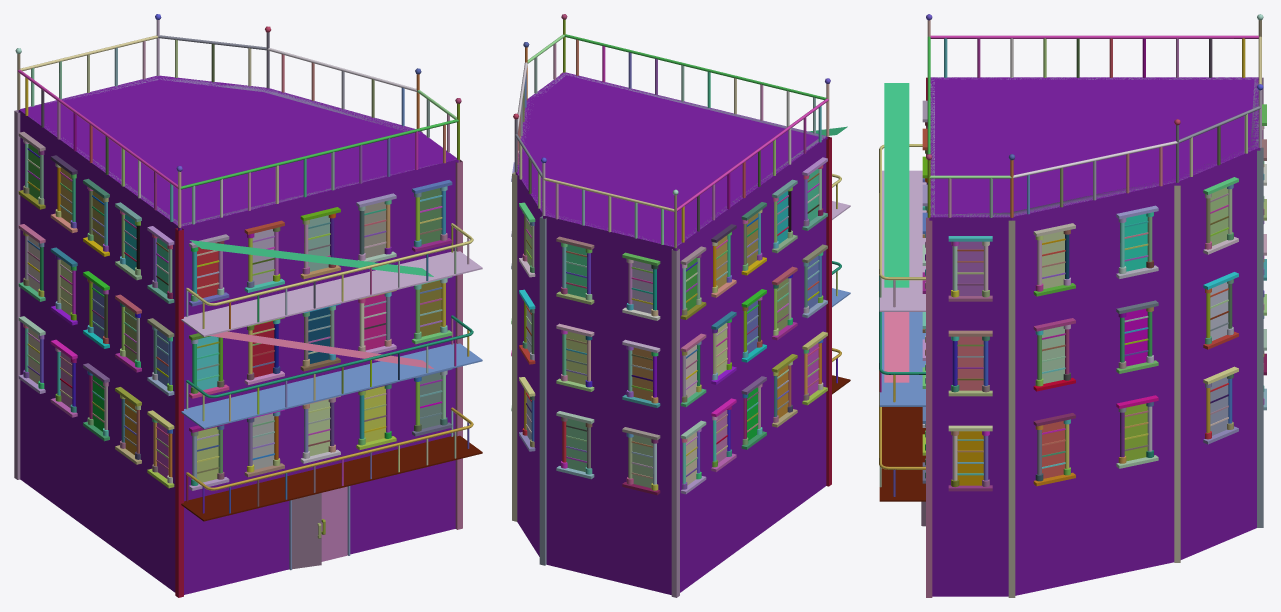
File: building_4.fbx
The picture shows the model from 3 angles, left to right: view 1: azimuth 30°, elevation 25°; view 2: azimuth 150°, elevation 25°; view 3: azimuth 270°, elevation 25°; orthographic projection. The views are drawn at different scales.
Visible parts, largest first — view 1: Building Procedural.004; view 2: Building Procedural.004; view 3: Building Procedural.004.
Part boxes in pixels (bbox=[...]): Building Procedural.004: bbox=[14, 14, 482, 597]; Building Procedural.004: bbox=[511, 14, 850, 597]; Building Procedural.004: bbox=[879, 14, 1266, 597].
Bounding box in the file's own units: 1040 × 1474 × 1171.
